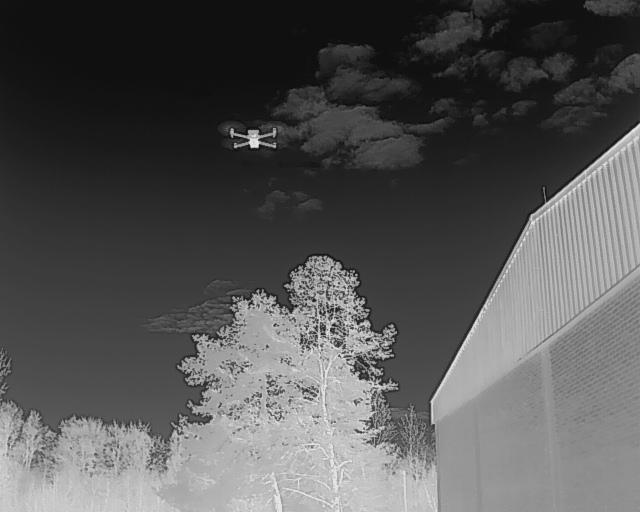drone: (220, 123, 281, 160)
